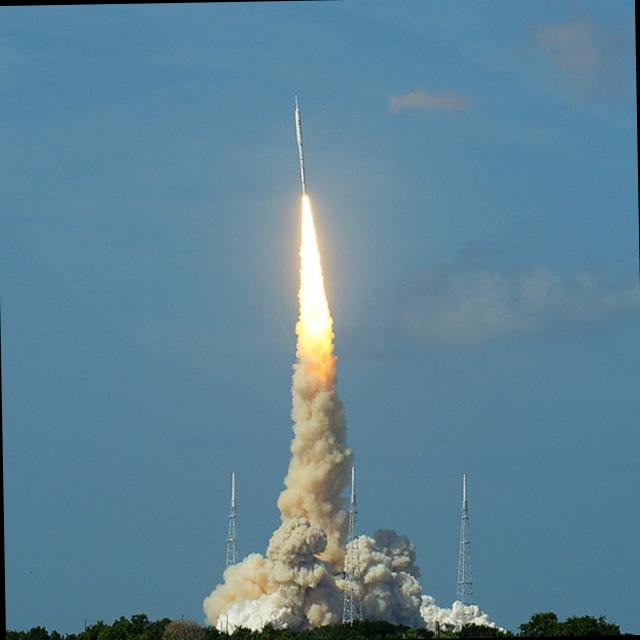rocket: (288, 92, 328, 378)
